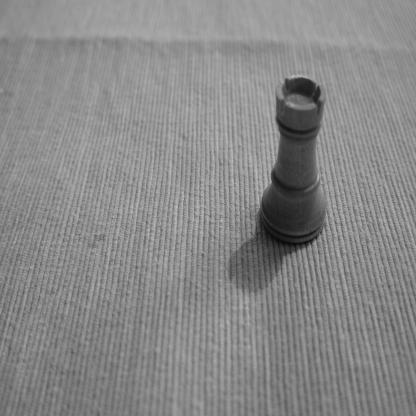white-rook: (260, 73, 327, 248)
